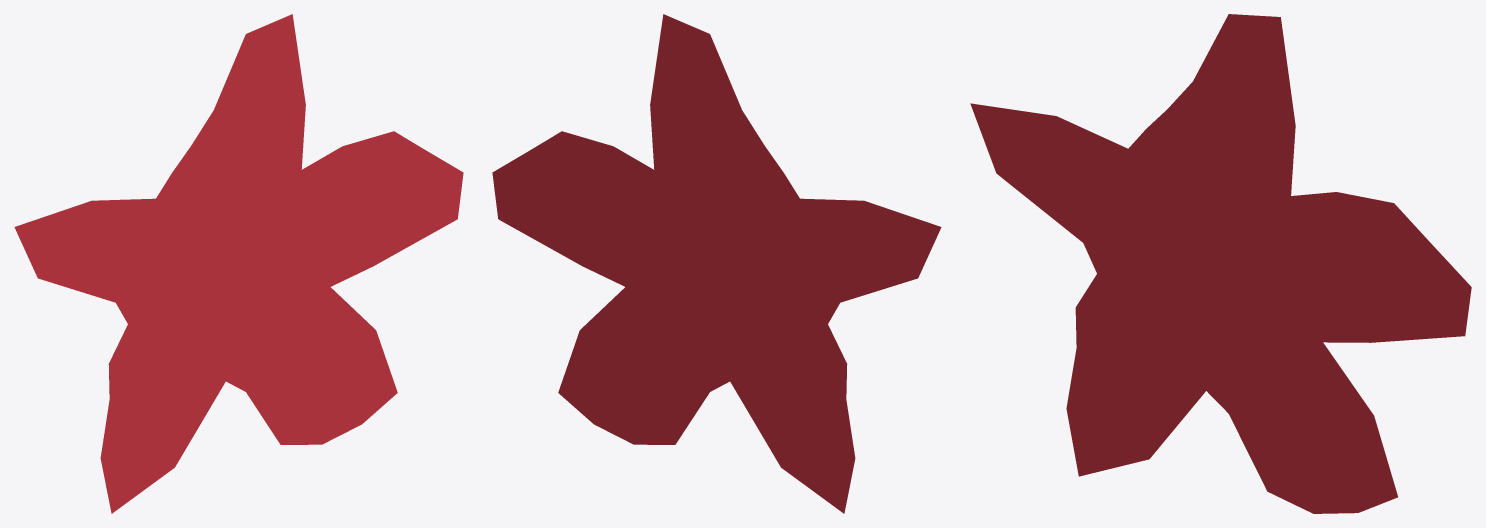
File: splat_red.glb
3 renders of one model, left to right at view 1: azimuth 30°, elevation 25°; view 2: azimuth 150°, elevation 25°; view 3: azimuth 330°, elevation 25°, orthographic. The views are drawn at different scales.
Parts seen in each view (by area): view 1: SM_PaintSplash; view 2: SM_PaintSplash; view 3: SM_PaintSplash.
Part boxes in pixels (<box>): SM_PaintSplash: <box>14,14,463,513</box>; SM_PaintSplash: <box>492,14,941,513</box>; SM_PaintSplash: <box>970,14,1471,513</box>.
Bounding box in the file's own units: 1.71 × 1.66 × 0.0005.
